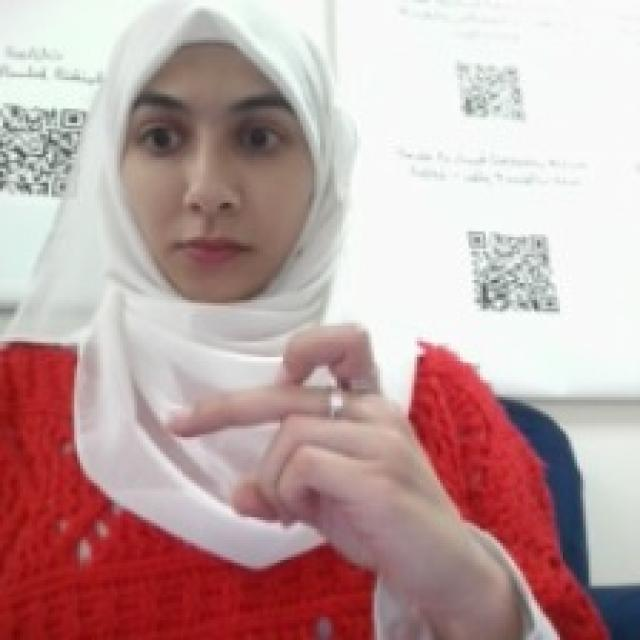sunday: (163, 314, 445, 590)
